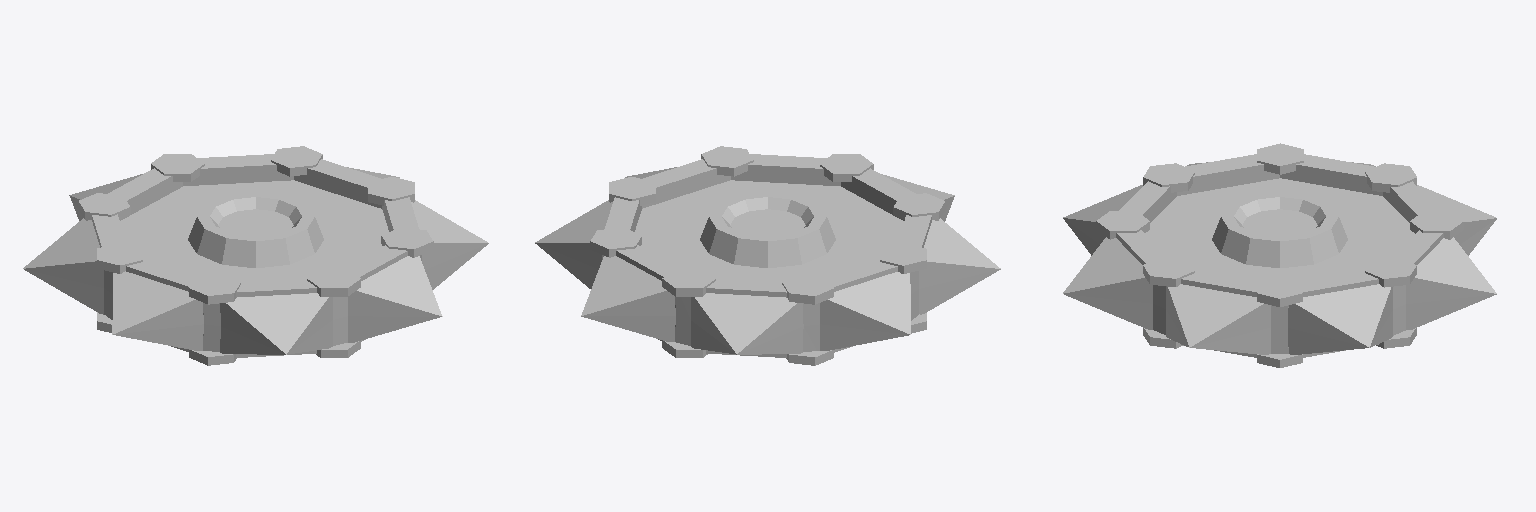
The model's file is fant_drill_large.obj.
3 renders of one model, left to right at view 1: azimuth 30°, elevation 25°; view 2: azimuth 150°, elevation 25°; view 3: azimuth 270°, elevation 25°, orthographic.
Parts seen in each view (by area): view 1: fant_drill_large_Mesh.001; view 2: fant_drill_large_Mesh.001; view 3: fant_drill_large_Mesh.001.
Part boxes in pixels (x1,y1,x2,y2): fant_drill_large_Mesh.001: (23,146,488,365); fant_drill_large_Mesh.001: (535,146,1000,365); fant_drill_large_Mesh.001: (1063,143,1496,367).
Size of the model in its own units: 5 by 1 by 5.